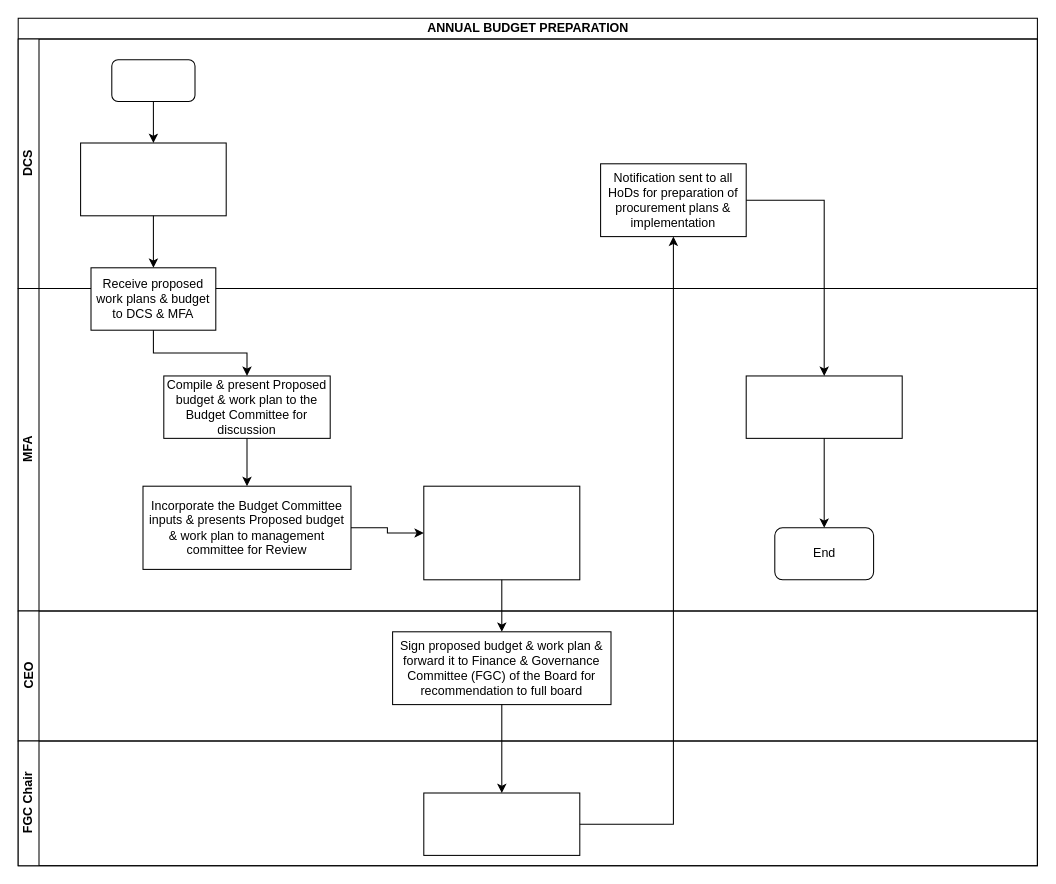
Some shapes in this 1056 by 884 pixel diagram are drawn without their labels. Each missing label, with the centre of its shape:
"Forward approved budget to line Ministry, National treasury & COB" goes at (823,406).
"Incorporate the management Committee inputs & Forward Proposed budget to CEO" goes at (501,532).
"Notification to all HoDs to prepare work plans & related budgets" goes at (153,179).
"Present the board paper on the proposed budget to full Board for approval" goes at (501,823).
"Start" goes at (153,80).
